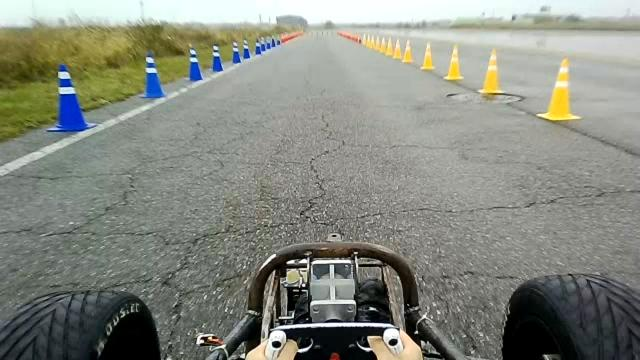blue cone: (46, 63, 97, 132), (139, 52, 167, 99), (187, 47, 203, 82), (210, 43, 223, 72), (231, 40, 241, 64), (242, 38, 251, 59), (255, 39, 261, 55), (260, 37, 266, 52), (270, 36, 275, 48)
yellow cone: (536, 57, 582, 121), (478, 47, 504, 94), (443, 44, 464, 80), (420, 42, 435, 70), (555, 57, 570, 85), (402, 39, 413, 63), (392, 38, 402, 60), (385, 37, 393, 56), (379, 36, 386, 54), (374, 36, 382, 51), (370, 35, 376, 50)
